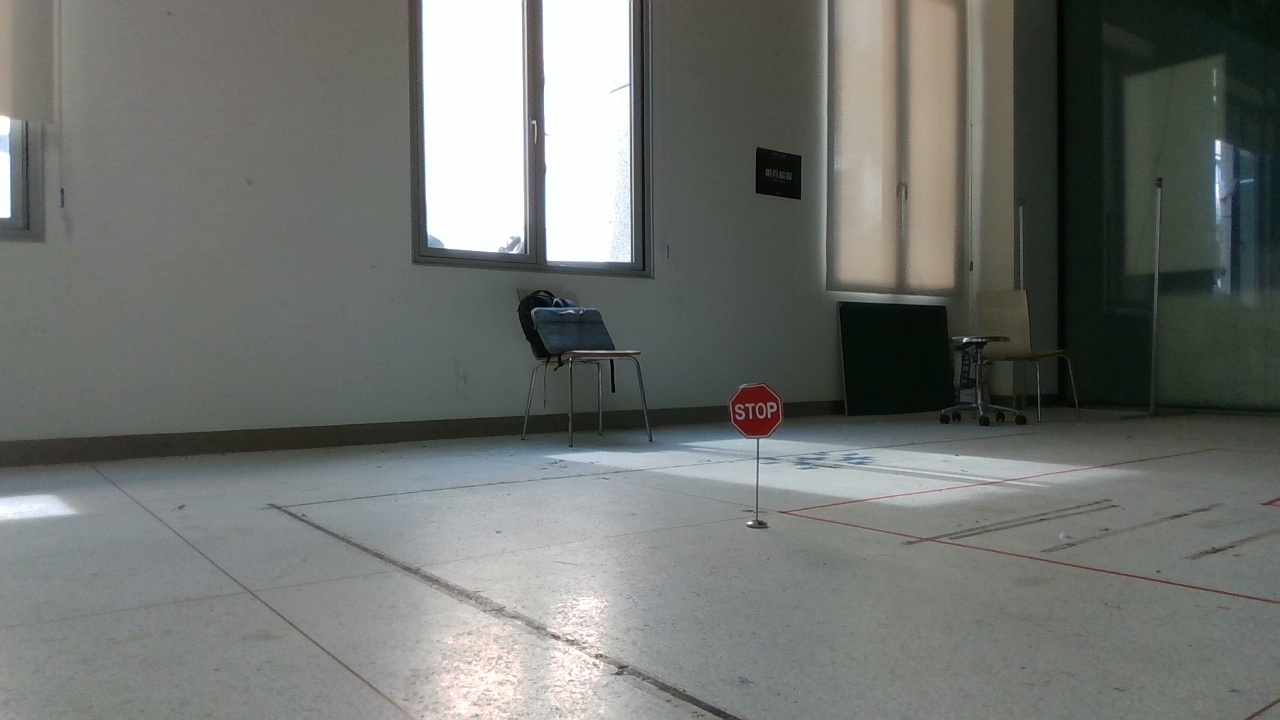stop_sign: (715, 375, 800, 445)
